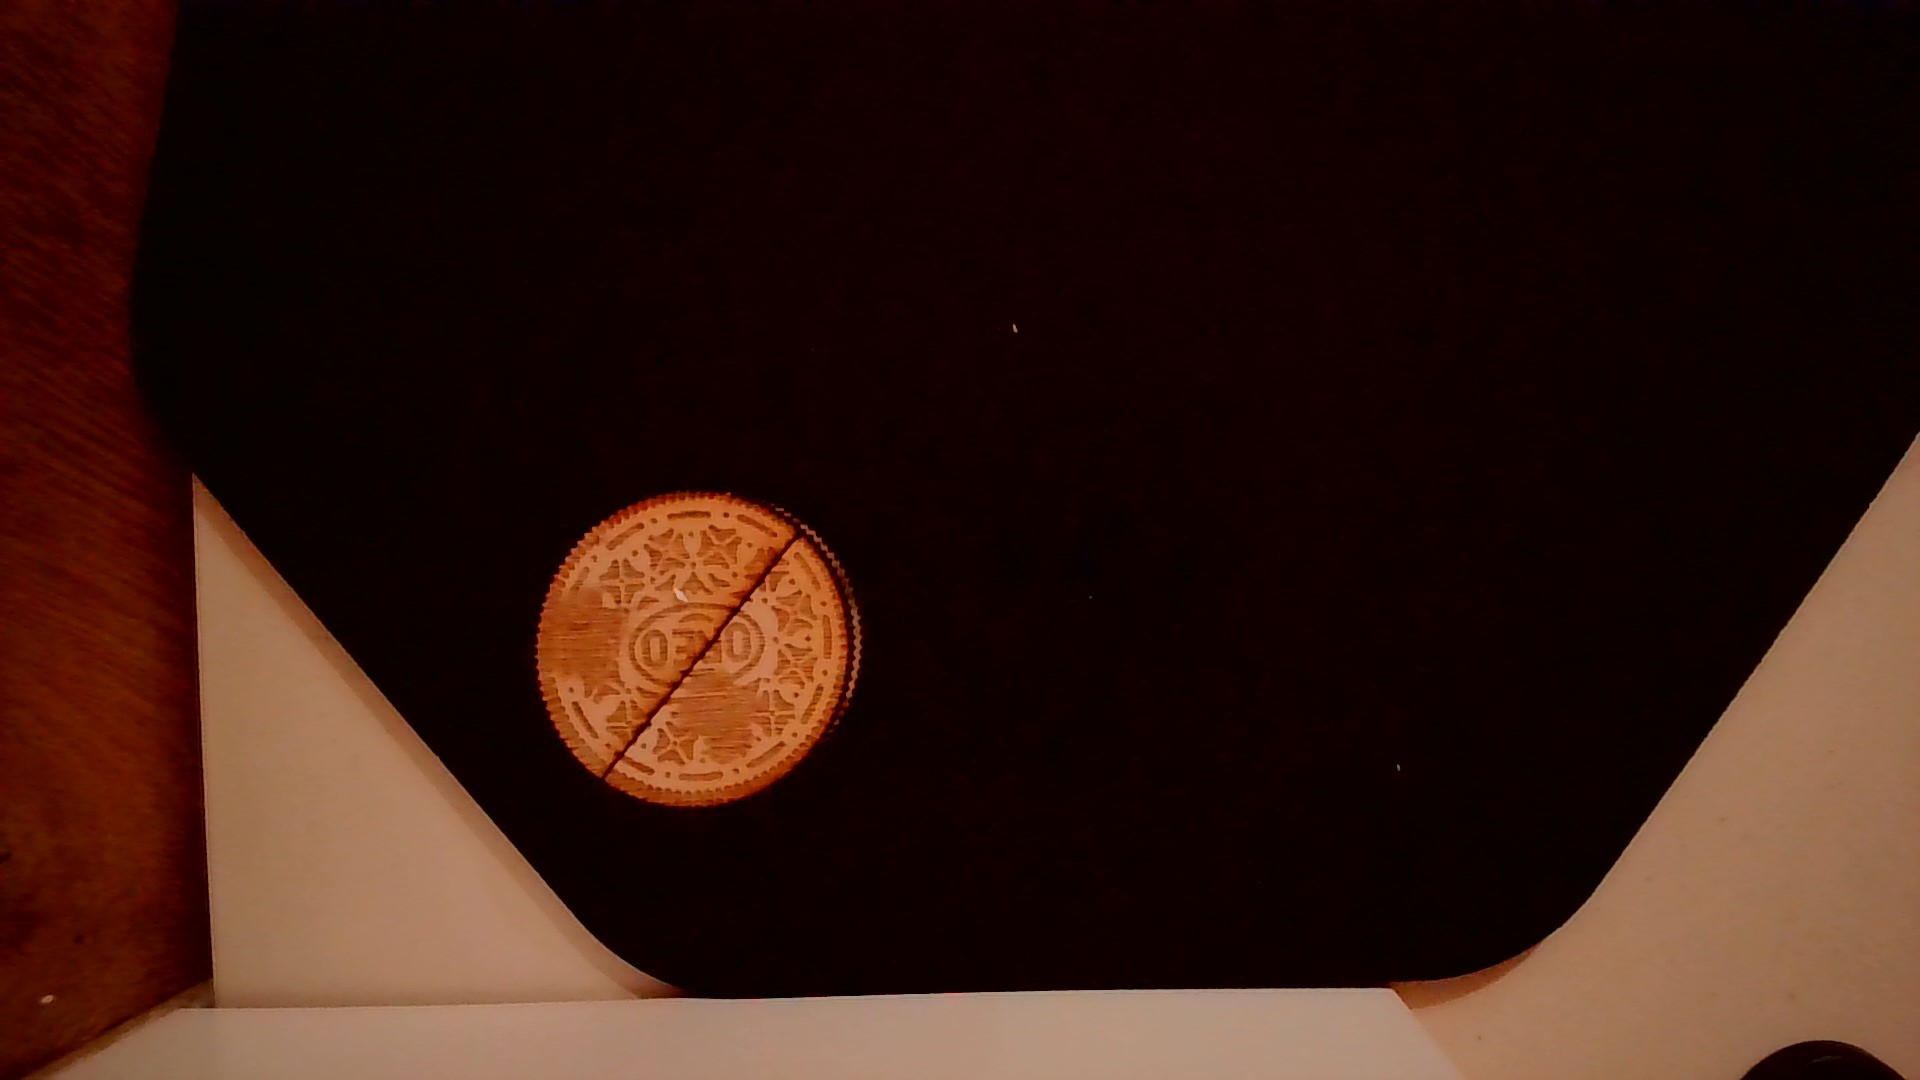Effacé: (669, 673, 766, 752), (542, 587, 615, 688)
Fissure: (592, 531, 814, 790)
Oréo: (526, 477, 872, 816)
